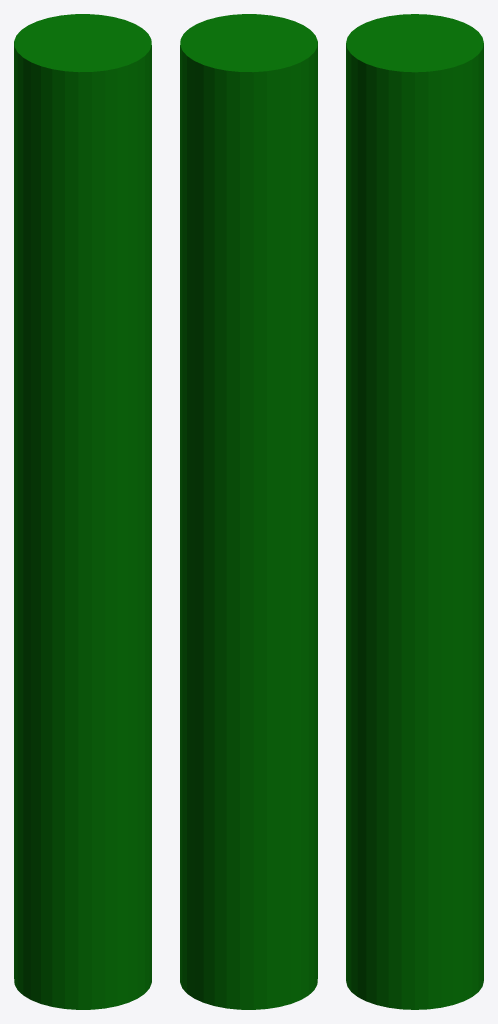
Rendered from cylinder_green.glb.
The picture shows the model from 3 angles, left to right: view 1: azimuth 30°, elevation 25°; view 2: azimuth 150°, elevation 25°; view 3: azimuth 270°, elevation 25°; orthographic projection.
Parts seen in each view (by area): view 1: Cylinder; view 2: Cylinder; view 3: Cylinder.
Part boxes in pixels (box(x1,y1,x2,y2)): Cylinder: box(14, 14, 151, 1009); Cylinder: box(180, 14, 317, 1009); Cylinder: box(346, 14, 483, 1009).
Size of the model in its own units: 0.2 by 1.5 by 0.2.
